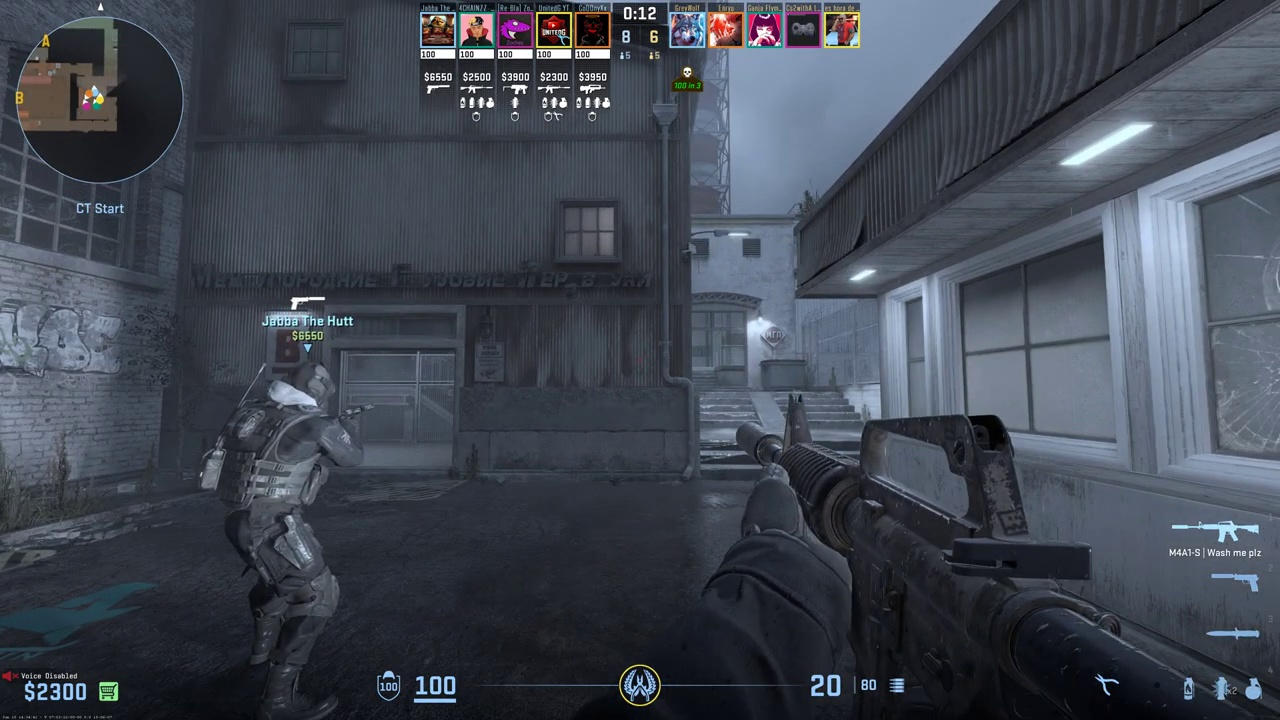CT: (229, 359, 362, 720)
